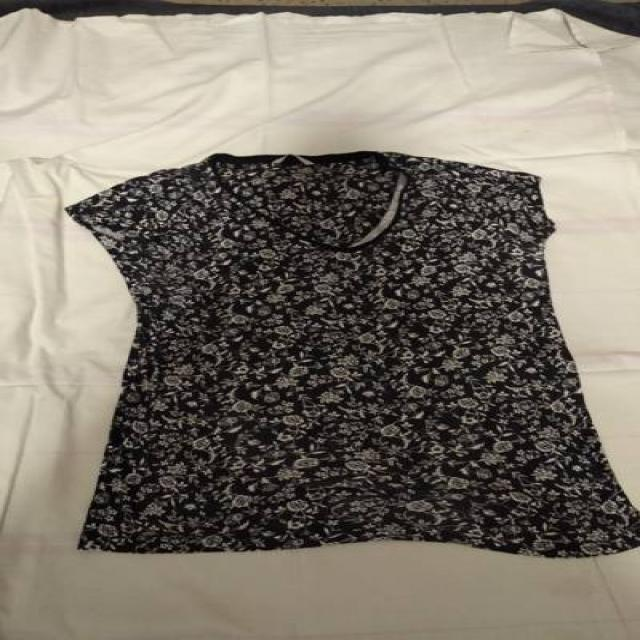Clothes -Biodegradable-: (66, 149, 640, 559)
